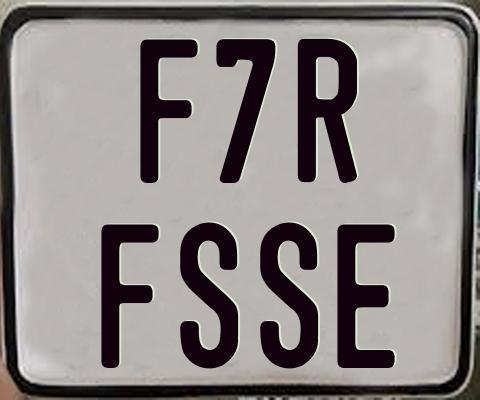7: (214, 39, 279, 184)
E: (334, 224, 395, 371)
F: (139, 39, 203, 183), (99, 221, 158, 370)
R: (298, 37, 359, 181)
S: (260, 221, 324, 373), (180, 220, 243, 371)
